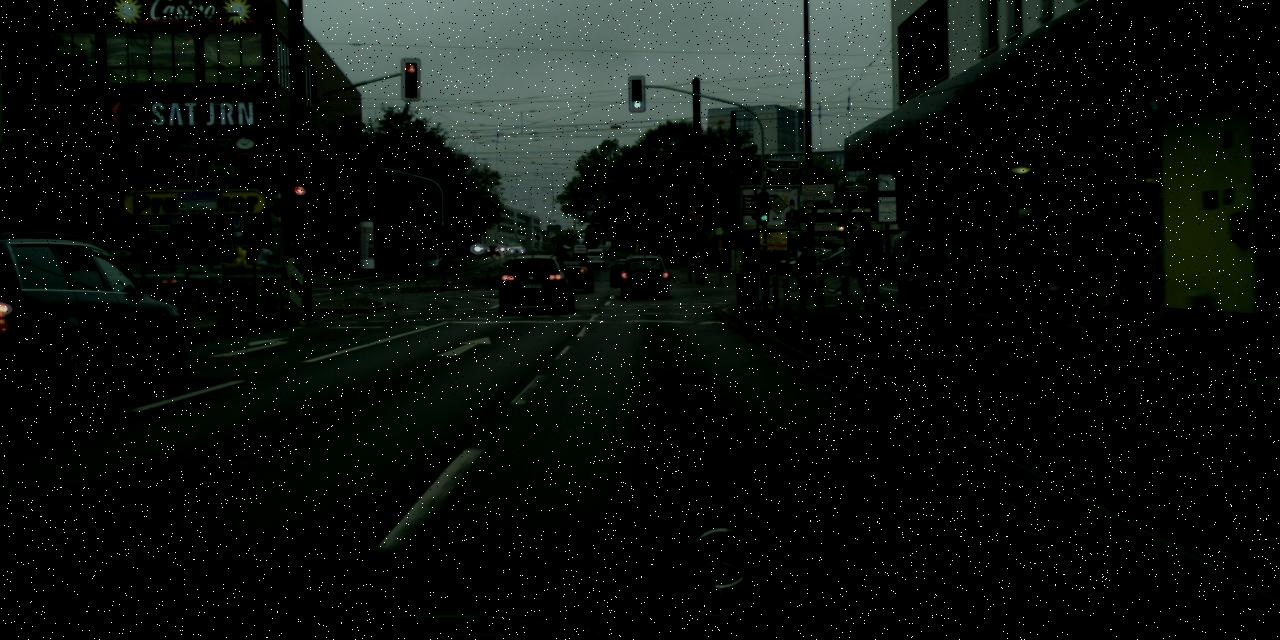ped: (848, 218, 888, 316), (887, 220, 925, 312), (910, 221, 945, 308), (736, 242, 762, 307), (252, 248, 276, 307), (789, 240, 813, 299), (245, 245, 262, 286), (237, 248, 252, 284), (316, 249, 325, 271), (641, 244, 653, 254)
